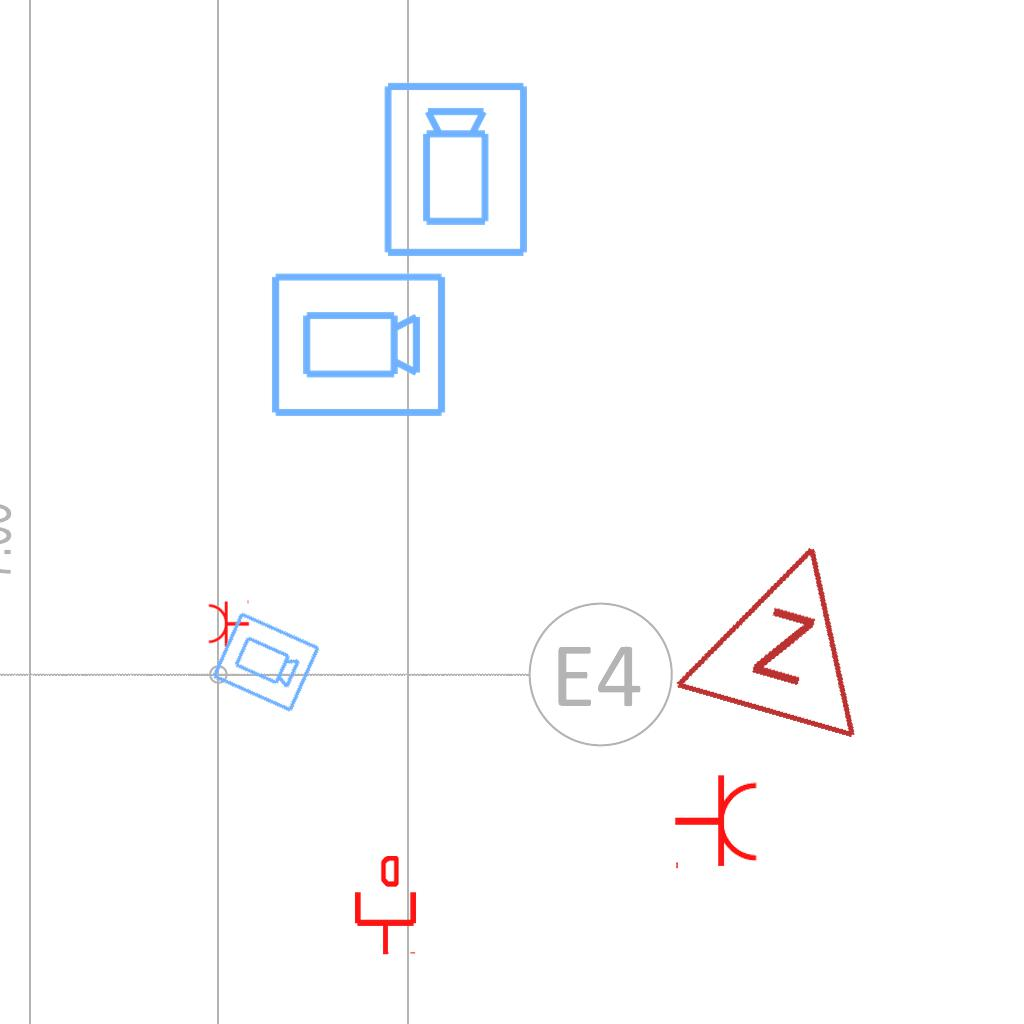Datenanschluss_einfach: (351, 856, 420, 956)
KFO_Kamera_mit_Festobjektiv: (267, 269, 449, 423), (380, 79, 534, 261), (208, 608, 323, 717)
Schukosteckdose_einfach: (673, 773, 760, 873), (207, 598, 250, 648)
Zimmersignalleuchte: (664, 506, 908, 754)
